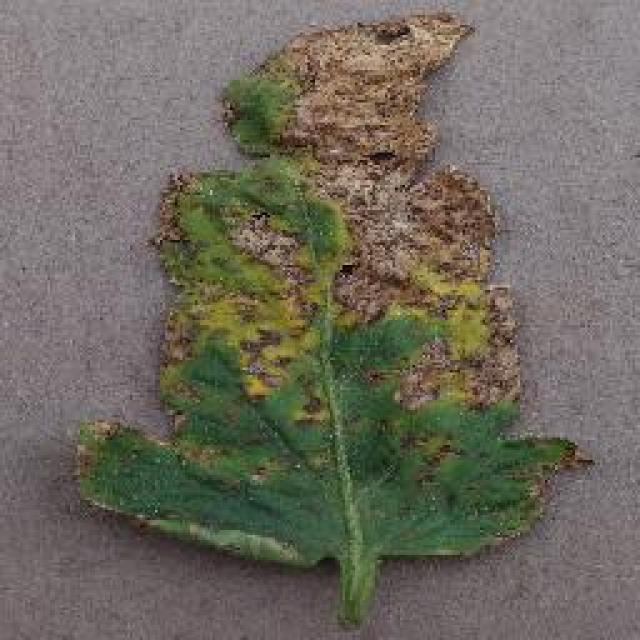Tomato___Bacterial_spot: (65, 10, 599, 629)
